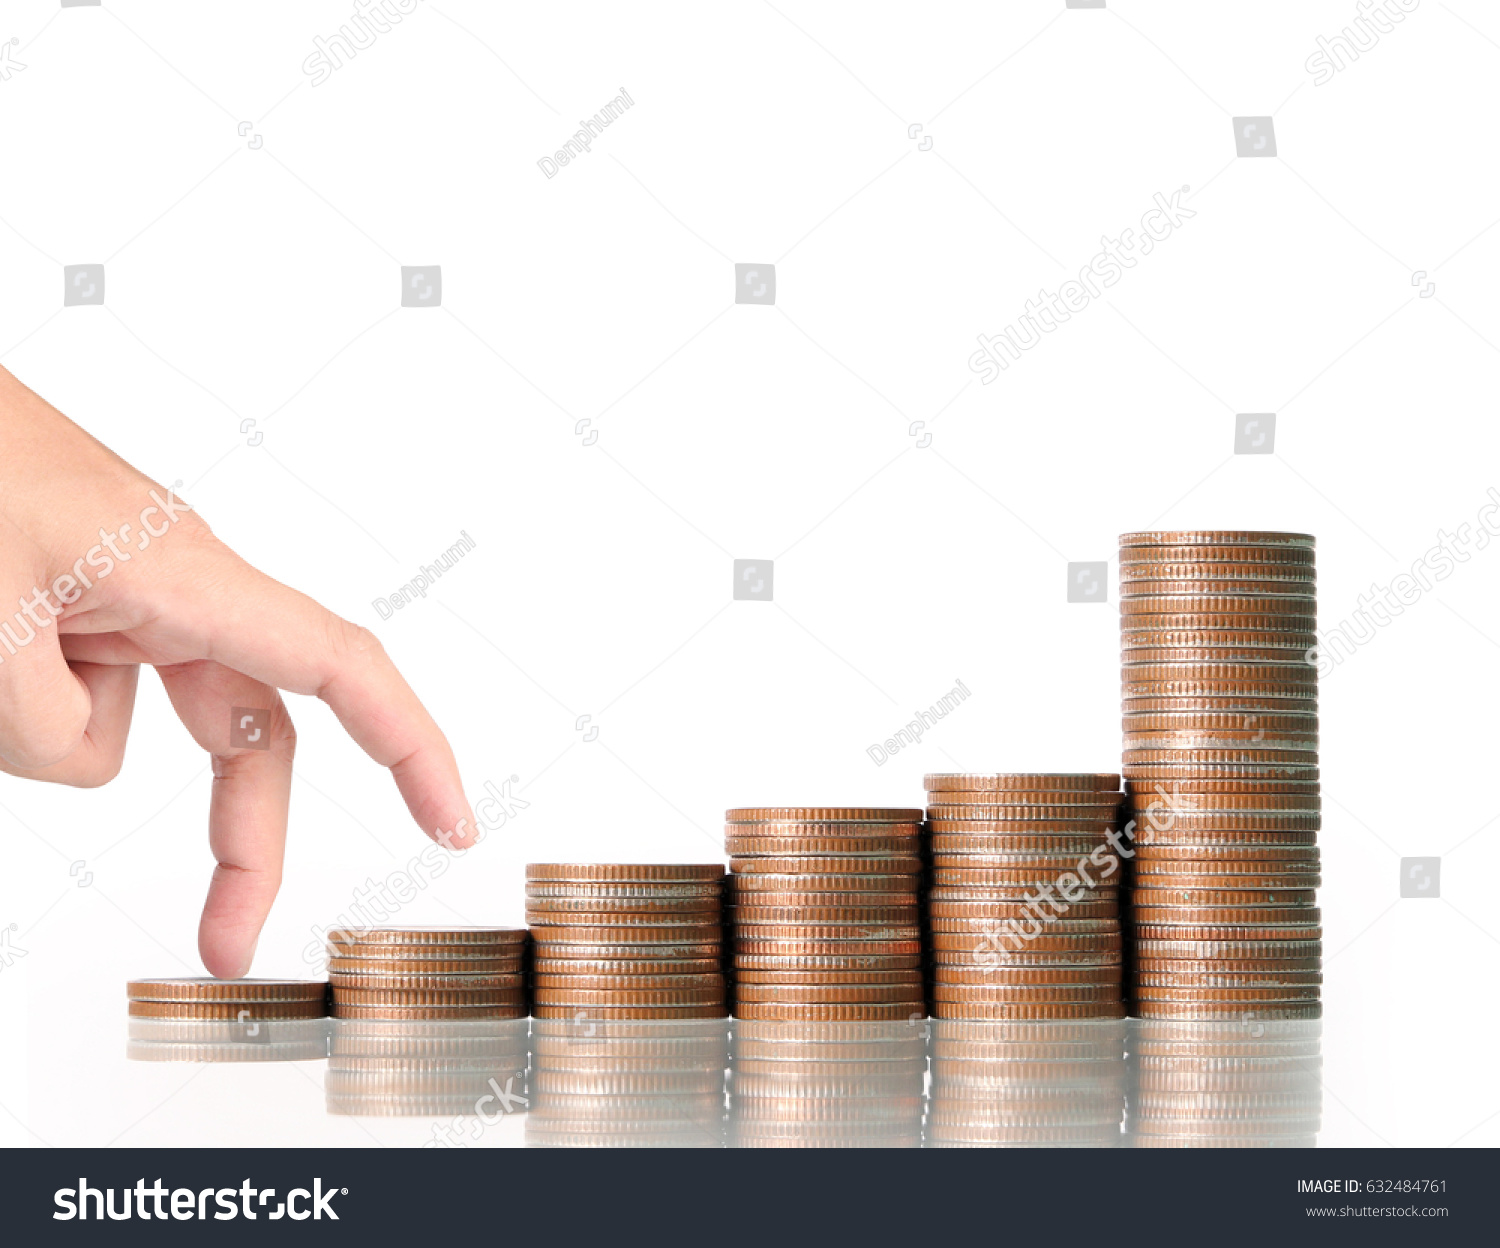finger: (163, 532, 485, 849), (194, 679, 292, 969)
